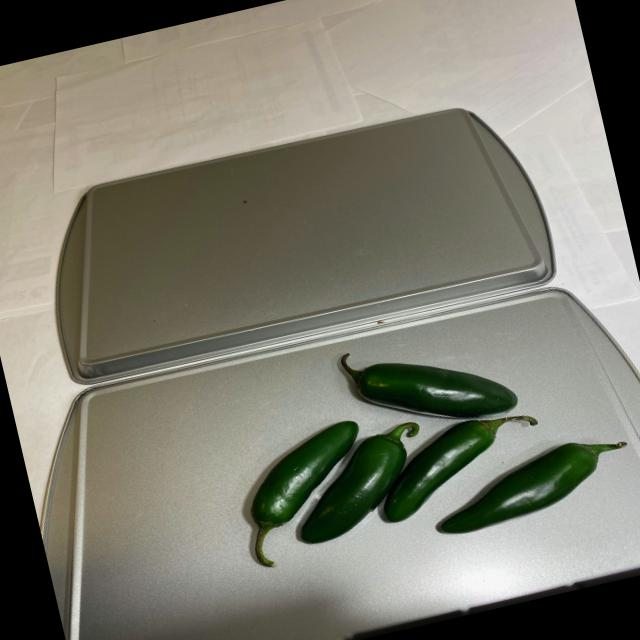chilli: (201, 296, 640, 587)
